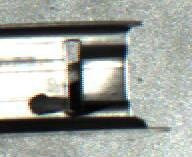press: (21, 18, 150, 132)
